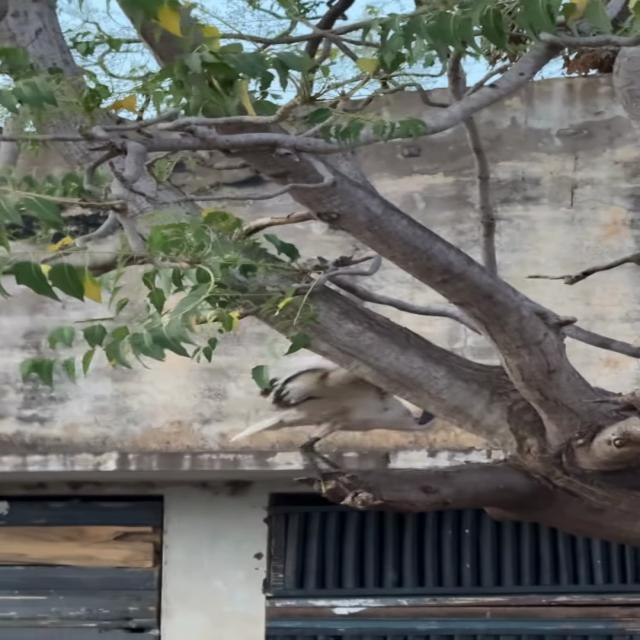Birds-Ibis: (227, 360, 440, 488)
